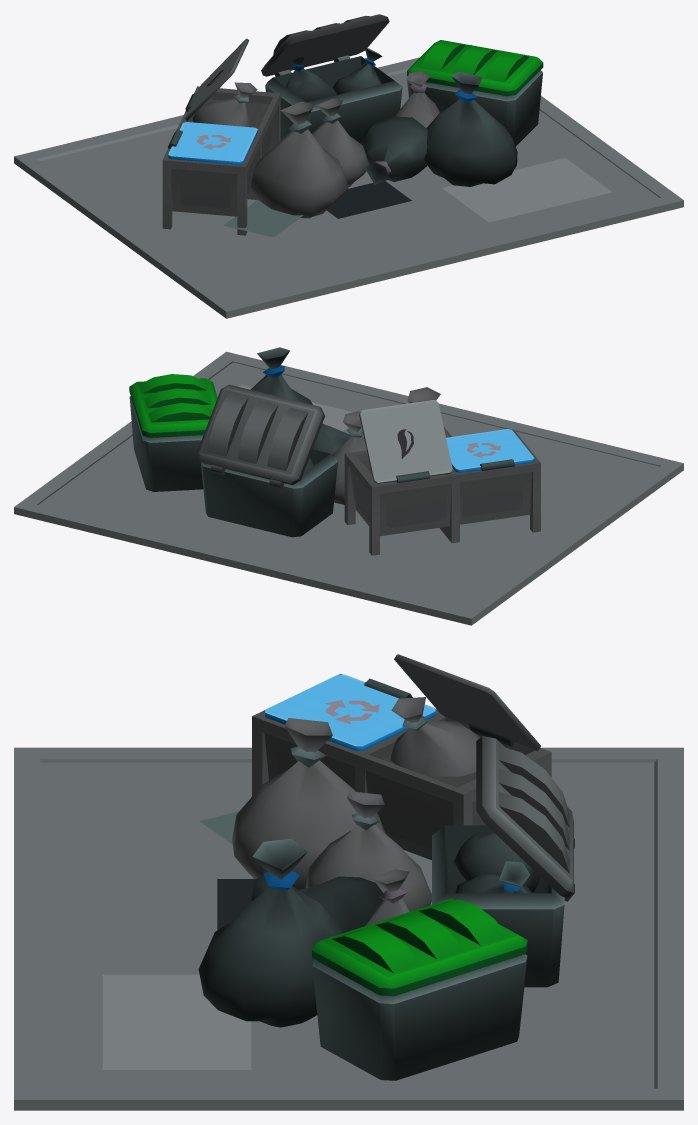
The model's file is gabage.fbx.
3 views of the same model, one above another, from view 1: azimuth 30°, elevation 25°; view 2: azimuth 150°, elevation 25°; view 3: azimuth 270°, elevation 25° (orthographic). The views are drawn at different scales.
Parts seen in each view (by area): view 1: Plane; view 2: Plane; view 3: Plane.
Boxes of the visible parts, bbox=[...] form: Plane: bbox=[14, 14, 683, 318]; Plane: bbox=[14, 347, 683, 625]; Plane: bbox=[14, 654, 683, 1110].
Bounding box in the file's own units: 1245 × 356 × 1001.
